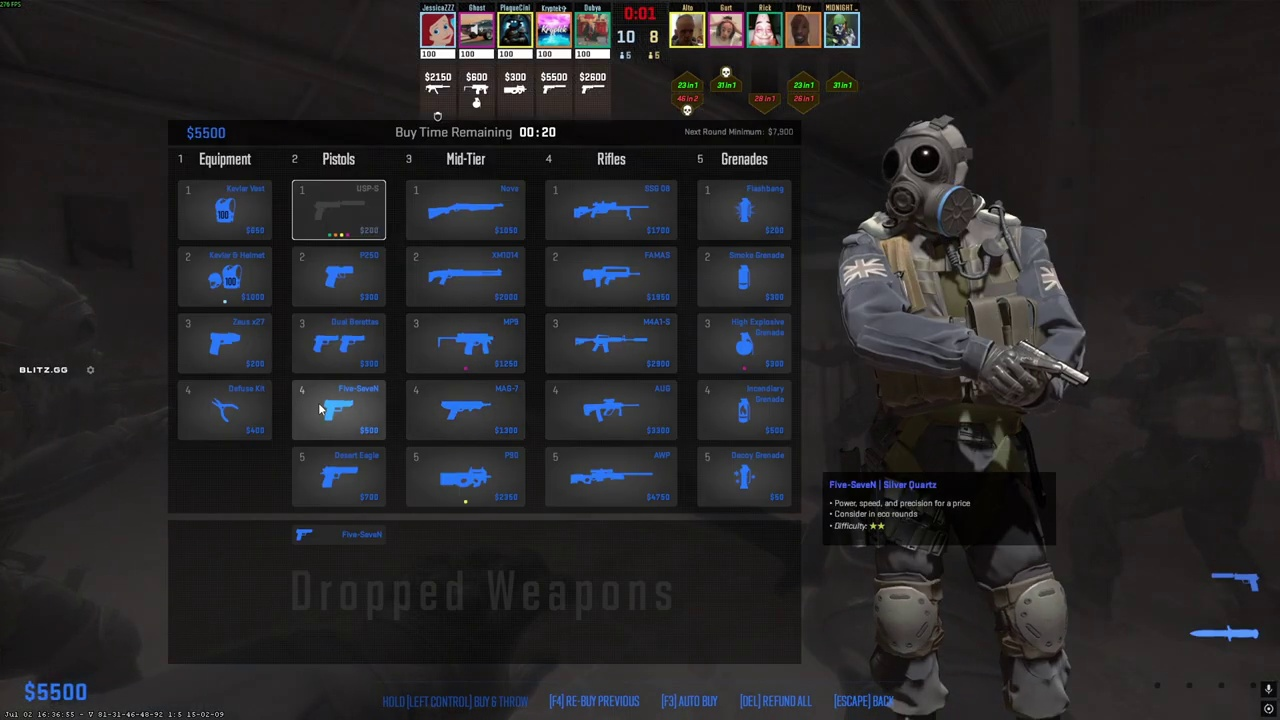CT: (852, 121, 1078, 720)
